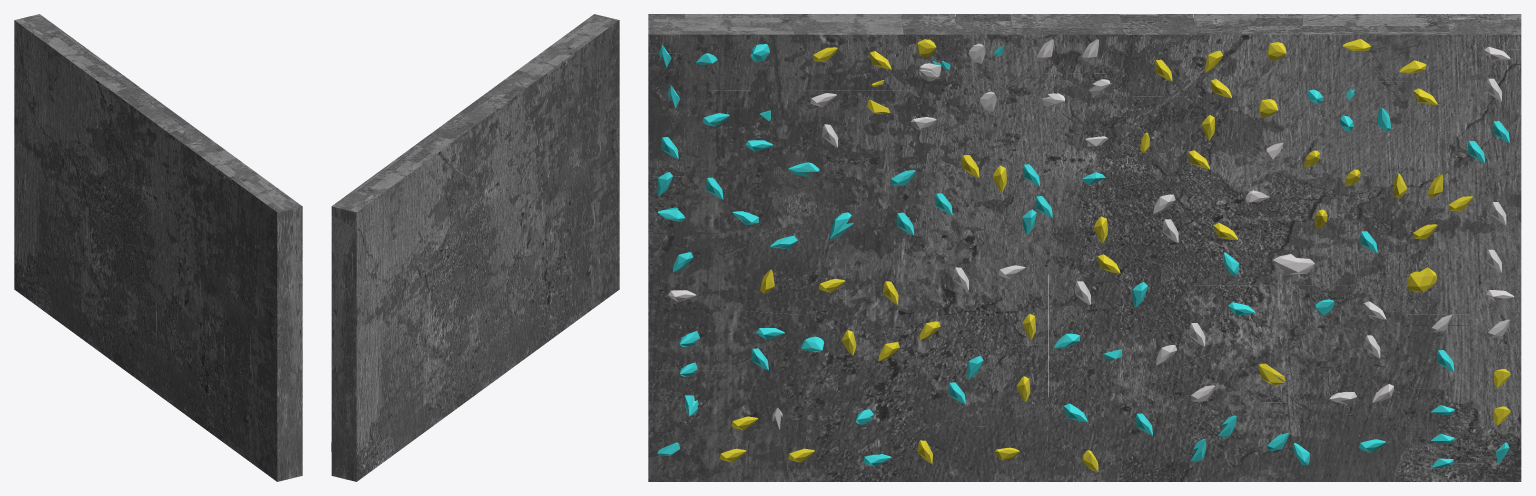
The model's file is duvar_5.fbx.
The picture shows the model from 3 angles, left to right: view 1: azimuth 30°, elevation 25°; view 2: azimuth 150°, elevation 25°; view 3: azimuth 270°, elevation 25°; orthographic projection. The views are drawn at different scales.
Parts seen in each view (by area): view 1: Cube_cell.224, Cube_cell.225, Cube_cell.208, Cube_cell.222, Cube_cell.211, Cube_cell.105_cell.009, Cube_cell.176_cell.003_cell.001, Cube_cell.176_cell.008, Cube_cell.156_cell.007, Cube_cell.105_cell.008, Cube_cell.218, Cube_cell.221 (+75 smaller); view 2: Cube_cell.218, Cube_cell.224, Cube_cell.020, Cube_cell.225, Cube_cell.222, Cube_cell.105_cell.009, Cube_cell.176_cell.003_cell.001, Cube_cell.176_cell.008, Cube_cell.156_cell.007, Cube_cell.105_cell.008, Cube_cell.214, Cube_cell.217 (+75 smaller); view 3: MADENTEK, Cube_cell.073, Cube_cell.222, Cube_cell.210, Cube_cell.214, Cube_cell.136_cell.010, Cube_cell.160_cell.011, Cube_cell.218, Cube_cell.202, Cube_cell.224, Cube_cell.152_cell.005, Cube_cell.176_cell.007 (+92 smaller).
Part boxes in pixels (box(x1,y1,x2,y2)): Cube_cell.224: box(135, 101, 192, 190); Cube_cell.225: box(36, 30, 104, 92); Cube_cell.208: box(255, 258, 302, 315); Cube_cell.222: box(232, 174, 292, 236); Cube_cell.211: box(258, 199, 302, 261); Cube_cell.105_cell.009: box(163, 245, 211, 306); Cube_cell.176_cell.003_cell.001: box(99, 170, 143, 246); Cube_cell.176_cell.008: box(90, 126, 126, 186); Cube_cell.156_cell.007: box(211, 247, 238, 325); Cube_cell.105_cell.008: box(148, 189, 178, 271); Cube_cell.218: box(14, 14, 60, 75); Cube_cell.221: box(249, 359, 302, 408); Cube_cell.218: box(331, 190, 379, 253); Cube_cell.224: box(450, 94, 510, 166); Cube_cell.020: box(331, 236, 385, 303); Cube_cell.225: box(353, 158, 422, 220); Cube_cell.222: box(550, 21, 608, 86); Cube_cell.105_cell.009: box(506, 157, 553, 245); Cube_cell.176_cell.003_cell.001: box(441, 217, 485, 281); Cube_cell.176_cell.008: box(432, 164, 468, 238); Cube_cell.156_cell.007: box(553, 117, 580, 210); Cube_cell.105_cell.008: box(490, 161, 520, 250); Cube_cell.214: box(413, 378, 452, 440); Cube_cell.217: box(564, 256, 587, 329); MADENTEK: box(658, 39, 1510, 466); Cube_cell.073: box(685, 90, 806, 213); Cube_cell.222: box(679, 14, 798, 90); Cube_cell.210: box(823, 377, 905, 481); Cube_cell.214: box(1208, 402, 1336, 481); Cube_cell.136_cell.010: box(1048, 304, 1162, 408); Cube_cell.160_cell.011: box(720, 258, 866, 314); Cube_cell.218: box(1447, 14, 1521, 108); Cube_cell.202: box(794, 14, 903, 77); Cube_cell.224: box(1010, 14, 1126, 73); Cube_cell.152_cell.005: box(1209, 123, 1314, 243); Cube_cell.176_cell.007: box(1033, 95, 1127, 200).
Size of the model in its own units: 77.83 by 654 by 1156.
Materials: 4 (1 with a texture image).
